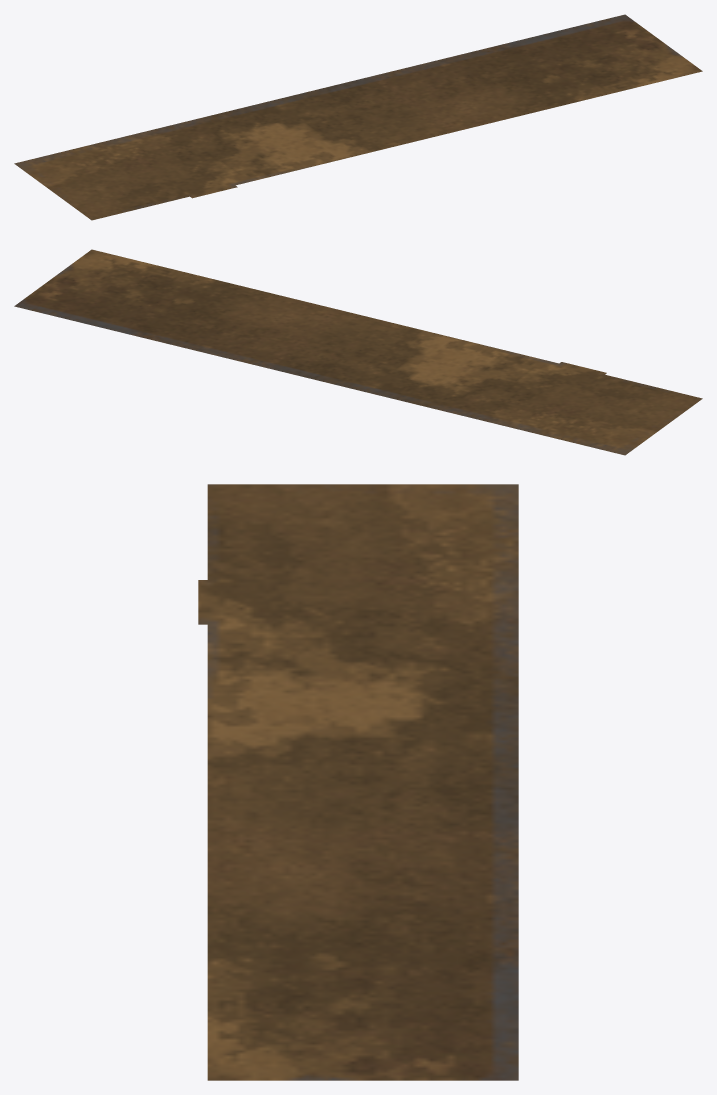
File: Chao Direita .fbx
The picture shows the model from 3 angles, top to bottom: view 1: azimuth 30°, elevation 25°; view 2: azimuth 150°, elevation 25°; view 3: azimuth 270°, elevation 25°; orthographic projection. The views are drawn at different scales.
Parts seen in each view (by area): view 1: Chao Direita; view 2: Chao Direita; view 3: Chao Direita.
Boxes of the visible parts, x1=… form: Chao Direita: x1=14, y1=14, x2=702, y2=220; Chao Direita: x1=14, y1=249, x2=702, y2=455; Chao Direita: x1=198, y1=484, x2=518, y2=1080.
Bounding box in the file's own units: 1565 × 0 × 355.
